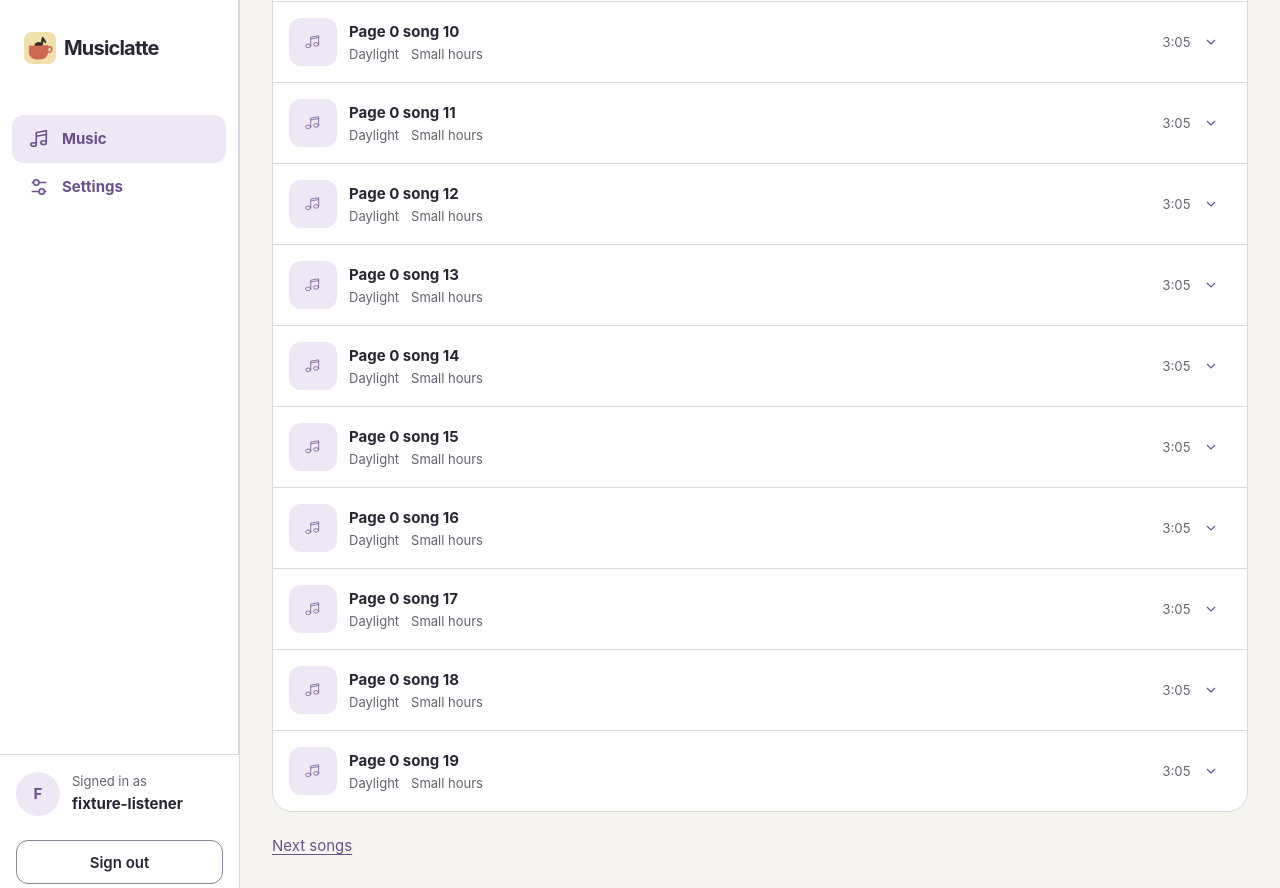
Scenario: library UI › should advance song pages and retain the query in the URL
This screenshot has width=1280, height=888.
(page scrolled)
Click the link "Next songs". click: click(312, 846)
box: [272,836,352,855]
(page scrolled)
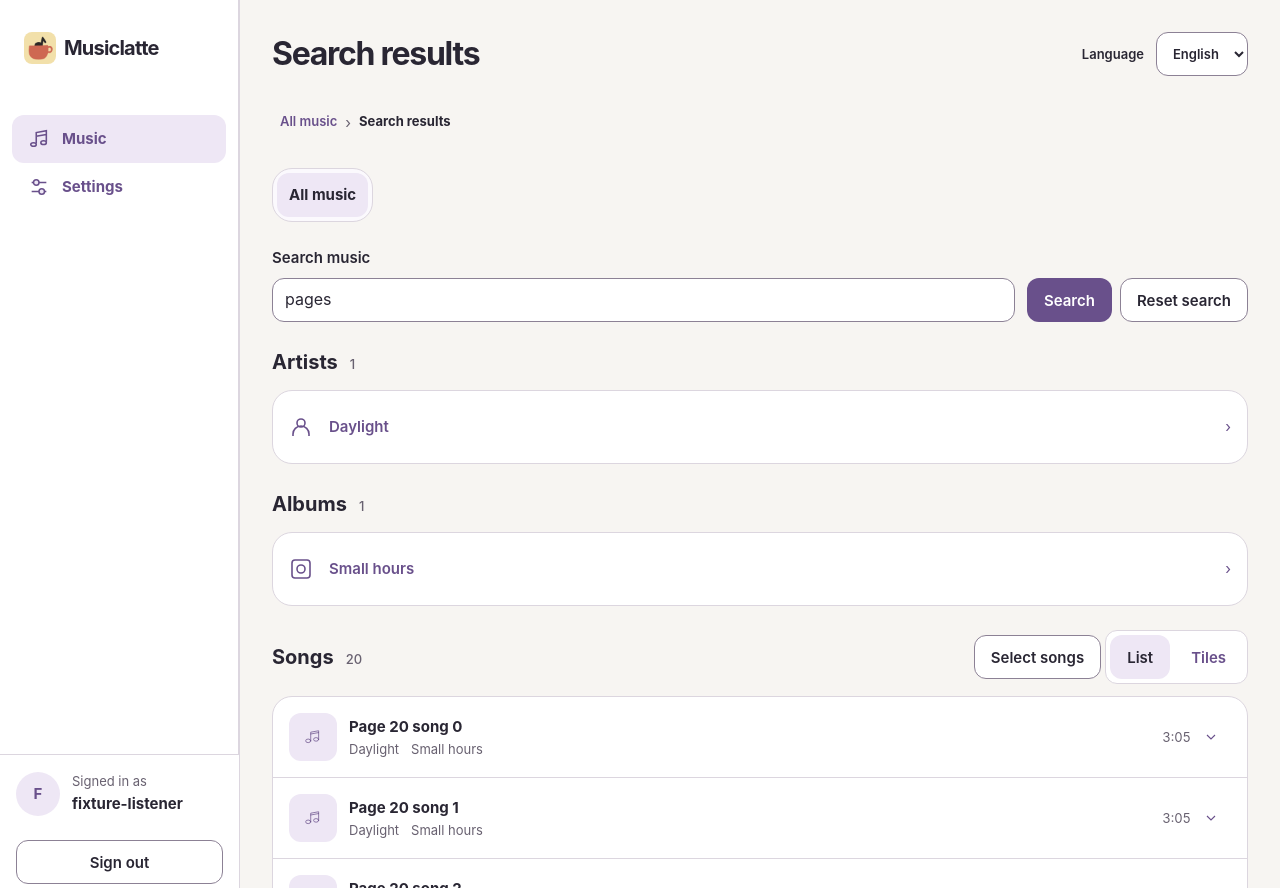
Check: the text "Page 20 song 0" is shown, box [349,717,462,736]
